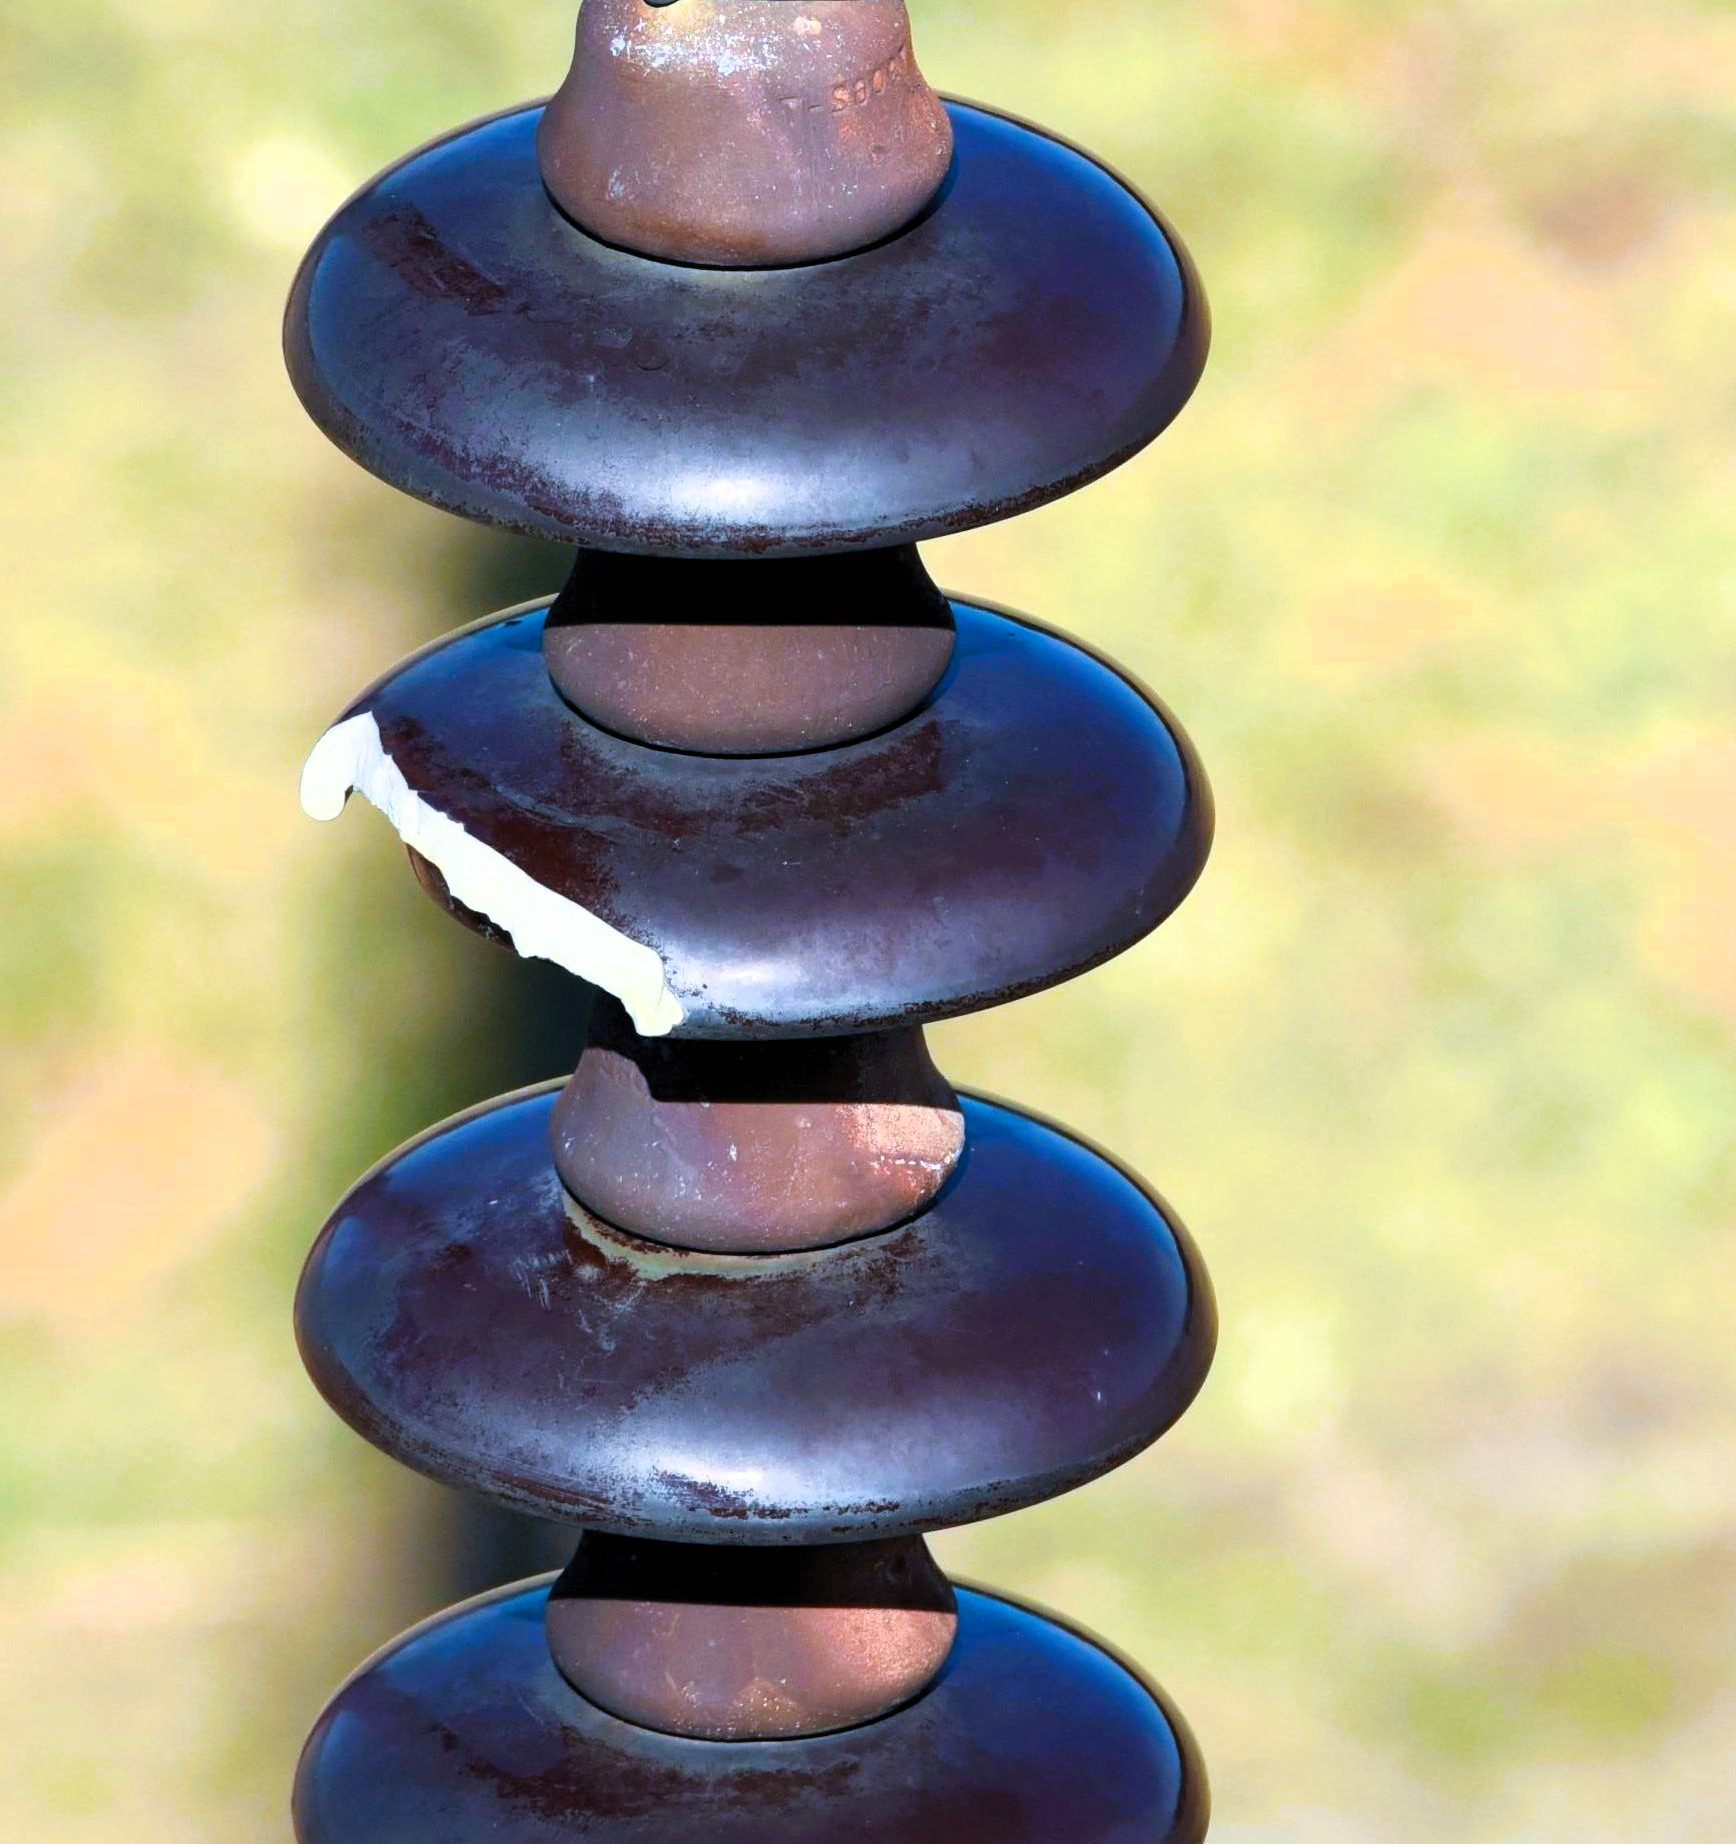insulator breakage: (261, 576, 1220, 1074)
